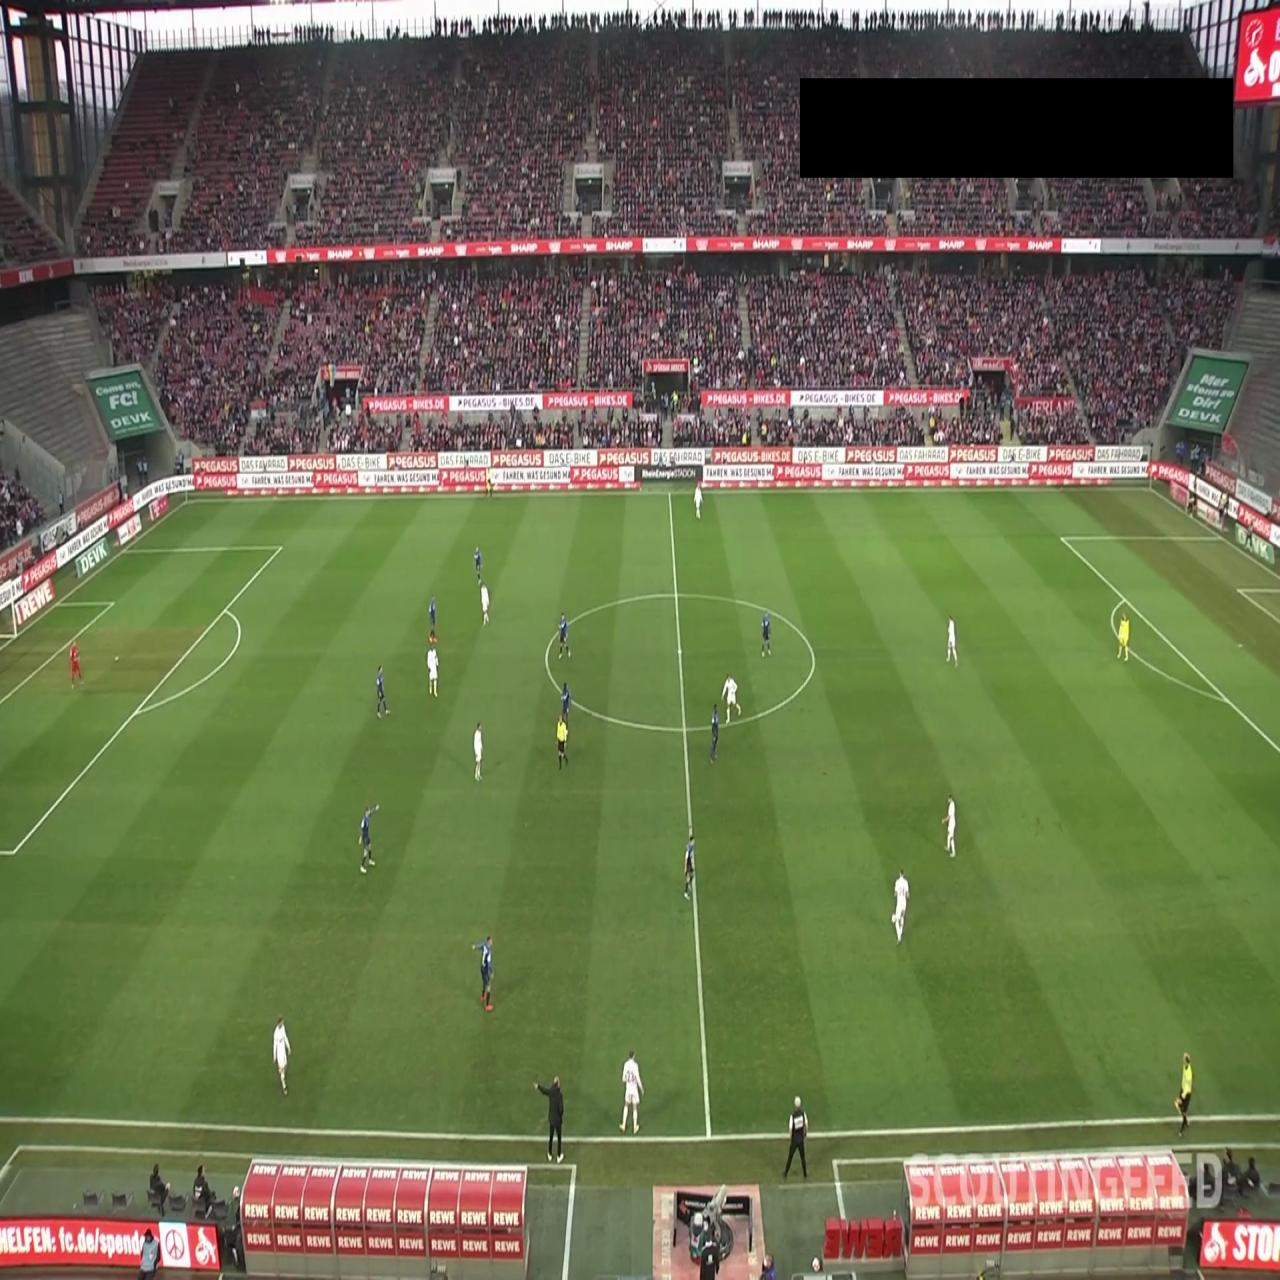ball: (890, 913, 896, 925)
goalkeeper: (1117, 610, 1130, 662), (70, 642, 84, 688)
player: (619, 1048, 644, 1134), (475, 933, 494, 1011), (891, 866, 910, 944), (273, 1014, 291, 1096), (358, 802, 379, 872), (722, 673, 742, 726), (940, 795, 956, 857), (683, 831, 696, 899), (427, 637, 439, 698), (376, 665, 389, 717), (946, 615, 958, 670), (710, 702, 720, 763), (474, 721, 484, 781), (558, 612, 570, 660), (560, 680, 571, 732), (479, 581, 491, 627), (762, 612, 772, 658), (694, 480, 704, 519), (429, 594, 437, 640), (474, 545, 483, 582)
referee: (1174, 1051, 1192, 1137), (556, 711, 569, 770), (484, 467, 493, 499)
